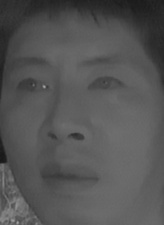eye: (86, 73, 125, 100), (12, 73, 51, 97)
mouth: (35, 155, 105, 196)
